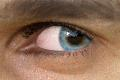eye: (60, 28, 87, 49)
